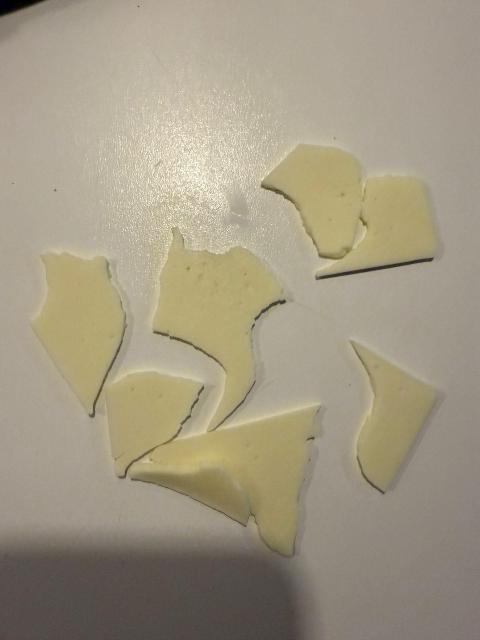Organik: (129, 415, 339, 548), (155, 232, 283, 423), (345, 337, 452, 511), (28, 233, 129, 403), (325, 173, 455, 293), (87, 372, 207, 471), (271, 144, 361, 253)
